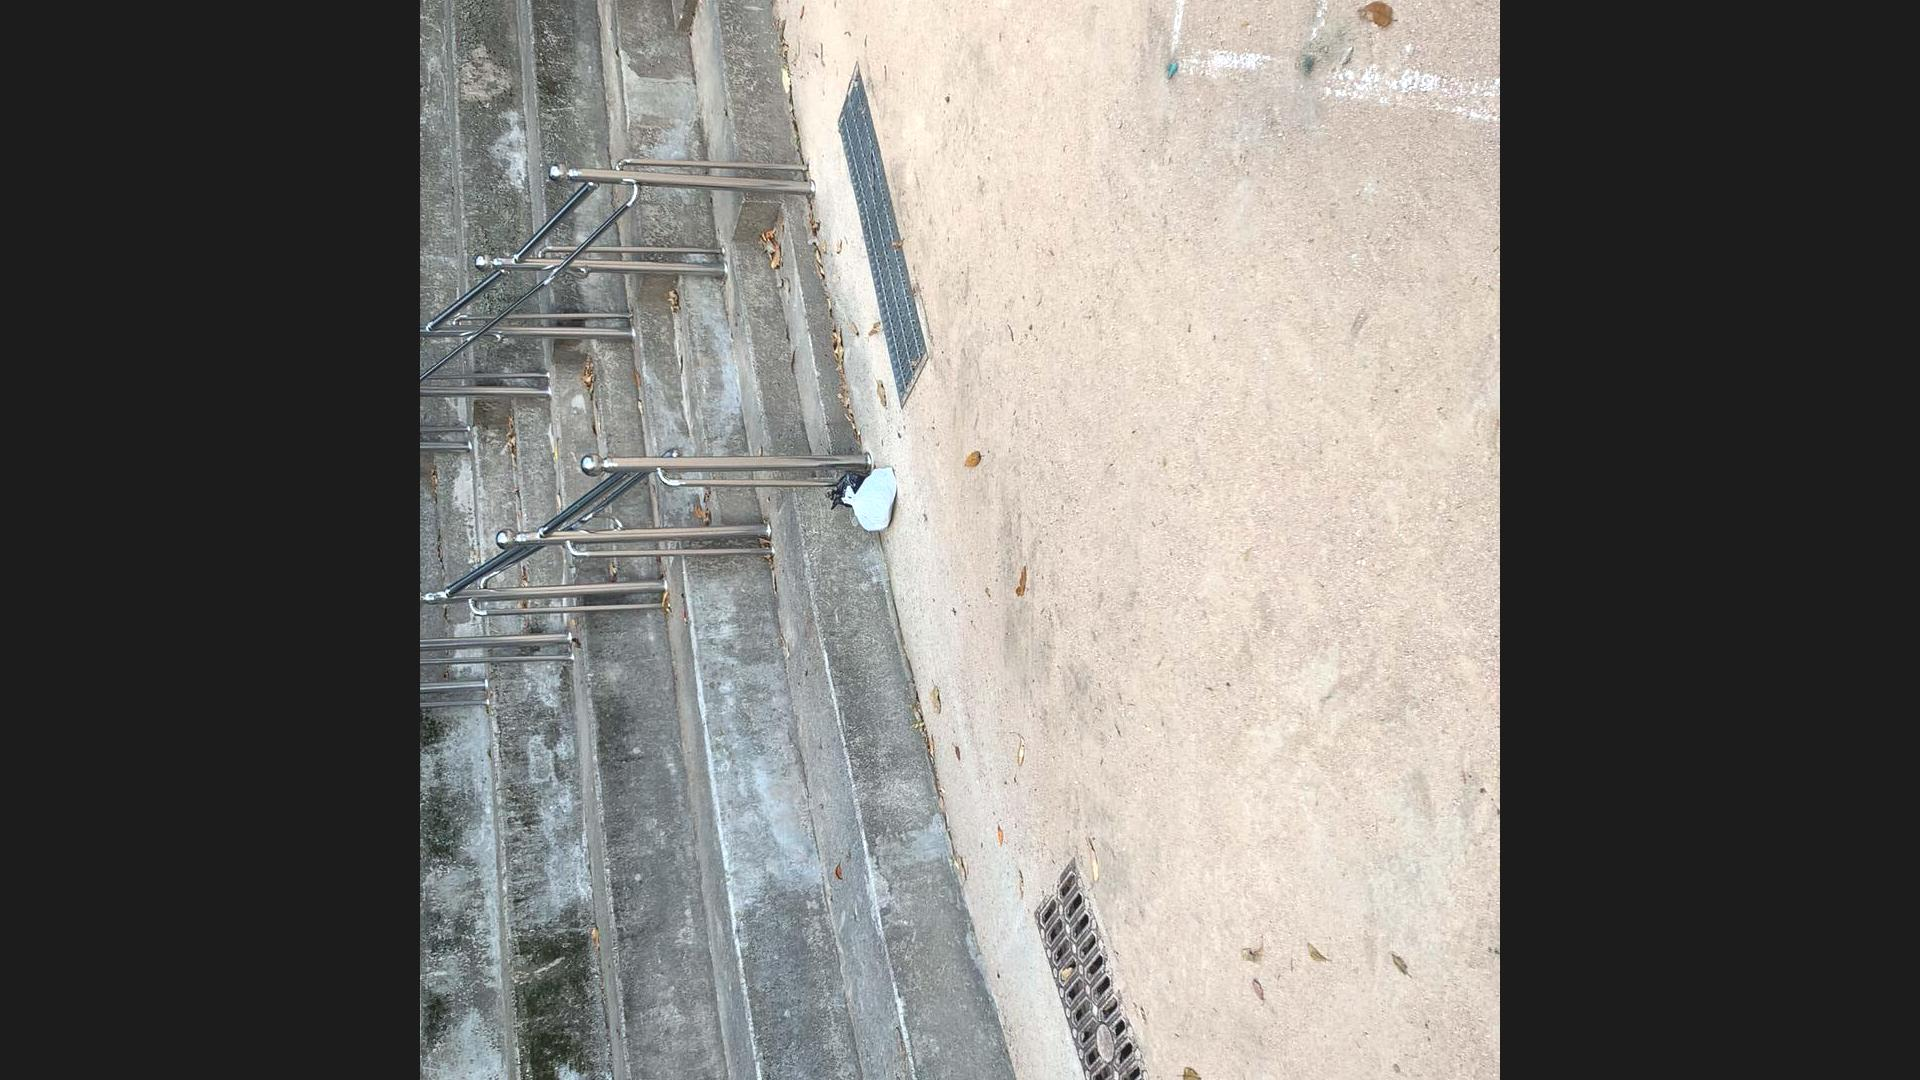black_bag: (824, 469, 872, 513)
white_bag: (837, 462, 899, 537)
